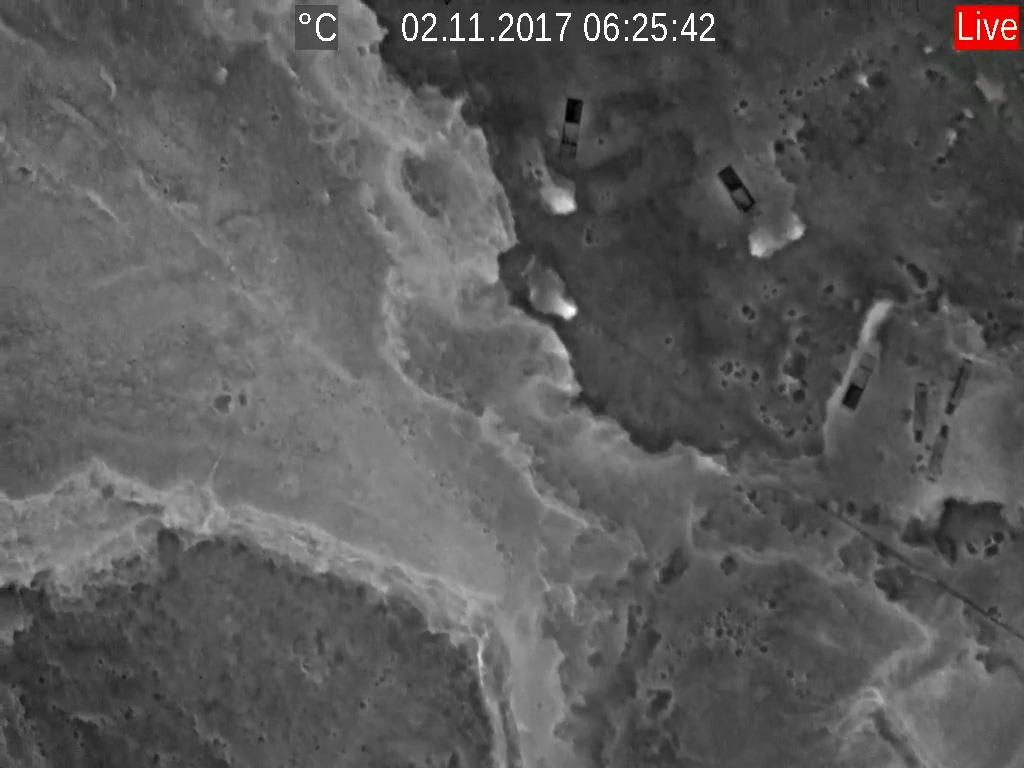warren: (513, 254, 586, 330), (745, 215, 807, 258), (536, 170, 582, 219), (859, 289, 892, 345)
